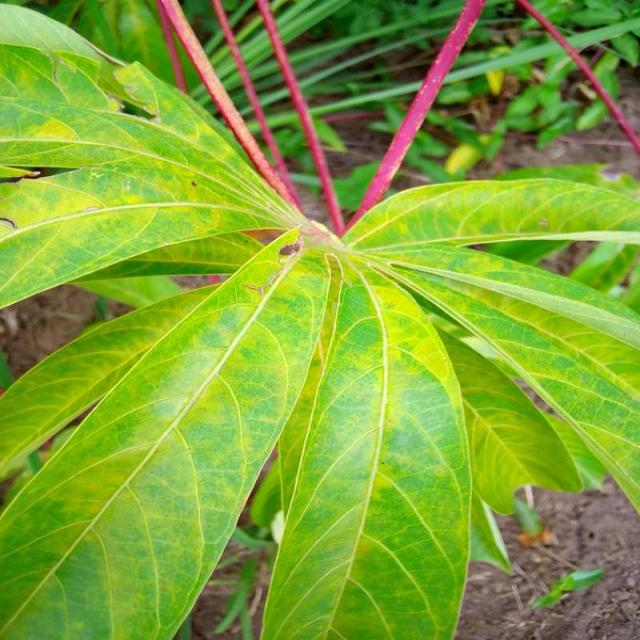cassava leaf: (2, 2, 640, 636), (2, 223, 332, 638), (258, 260, 474, 638)
